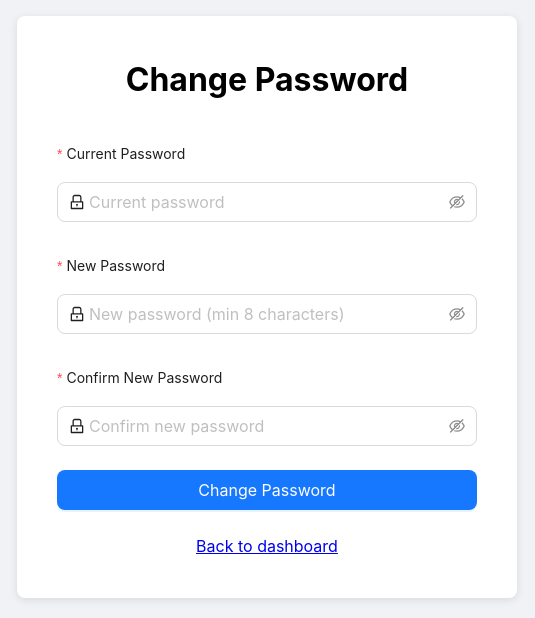
it: PasswordChangePage › Form Validation › should show error when current password is empty
The width and height of the screenshot is (535, 618).
Click the button "Change Password". click: (267, 490)
box: [57,470,477,510]
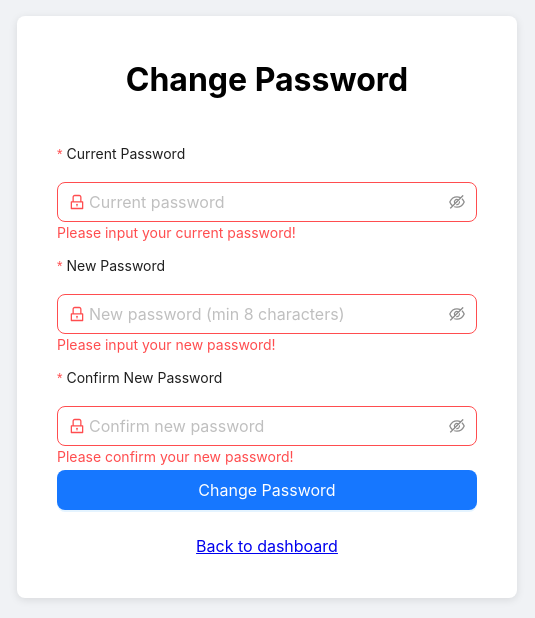
Check: the text "Please input your current password!" is shown, box [57,224,296,241]
